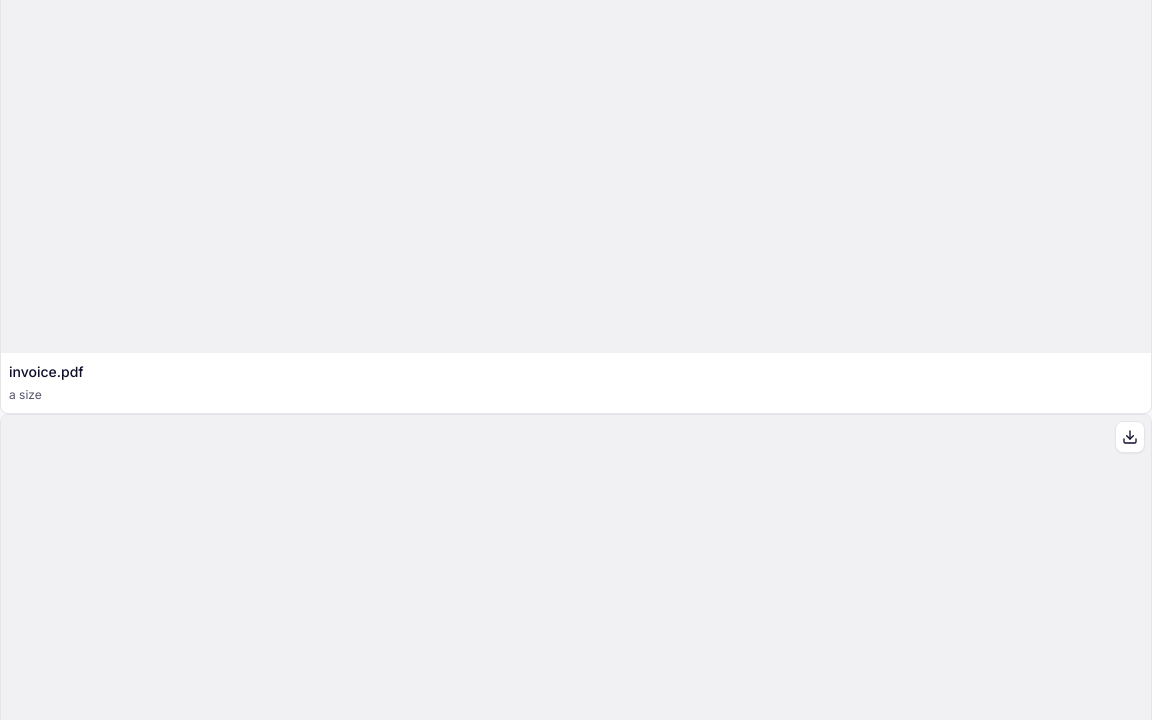
Test: AttachmentViewer › steps through the page’s files, an Office file as its thumbnail and an archive as its icon
(page scrolled)
Click the button with aria-label "Open invoice.pdf" at (46, 372), box [9, 361, 1143, 383]
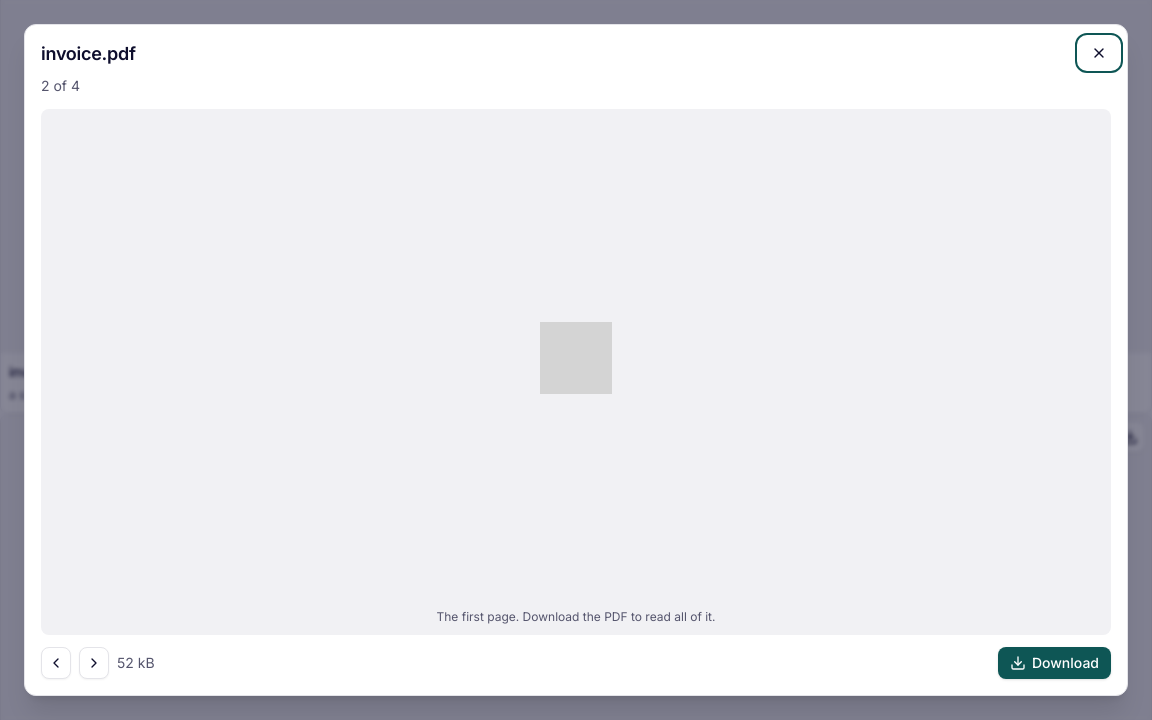
Click the button named "Next file" at (94, 663), box [79, 647, 109, 679]
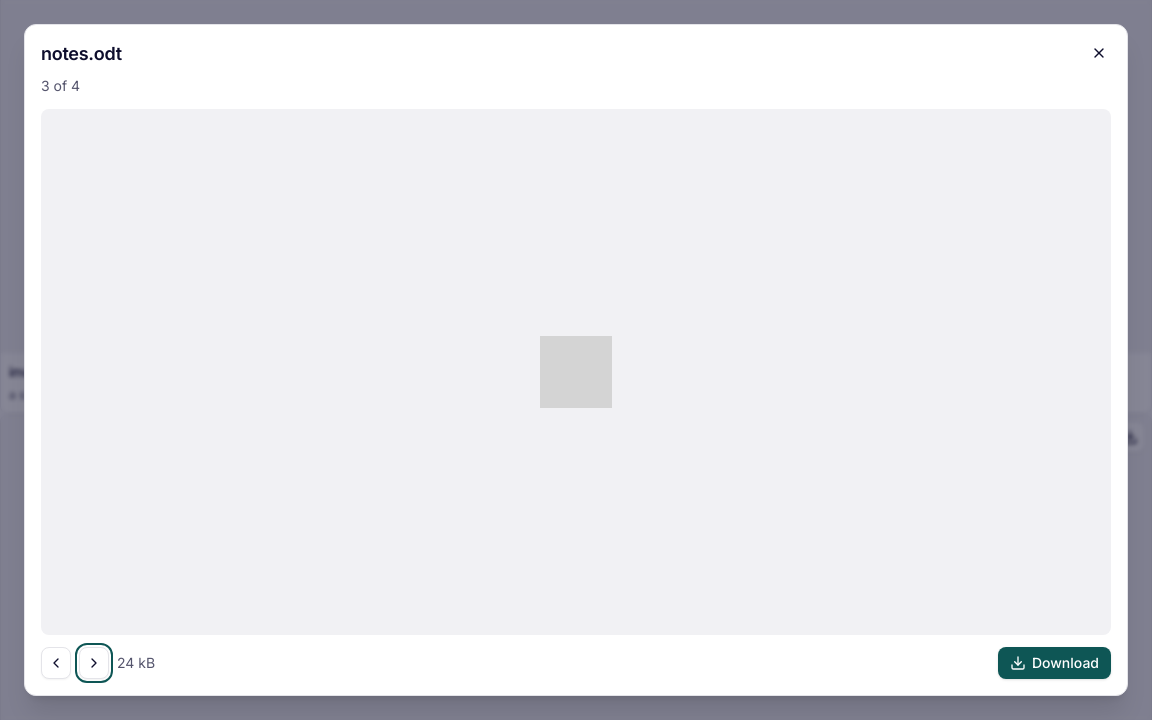
Press Arrowright
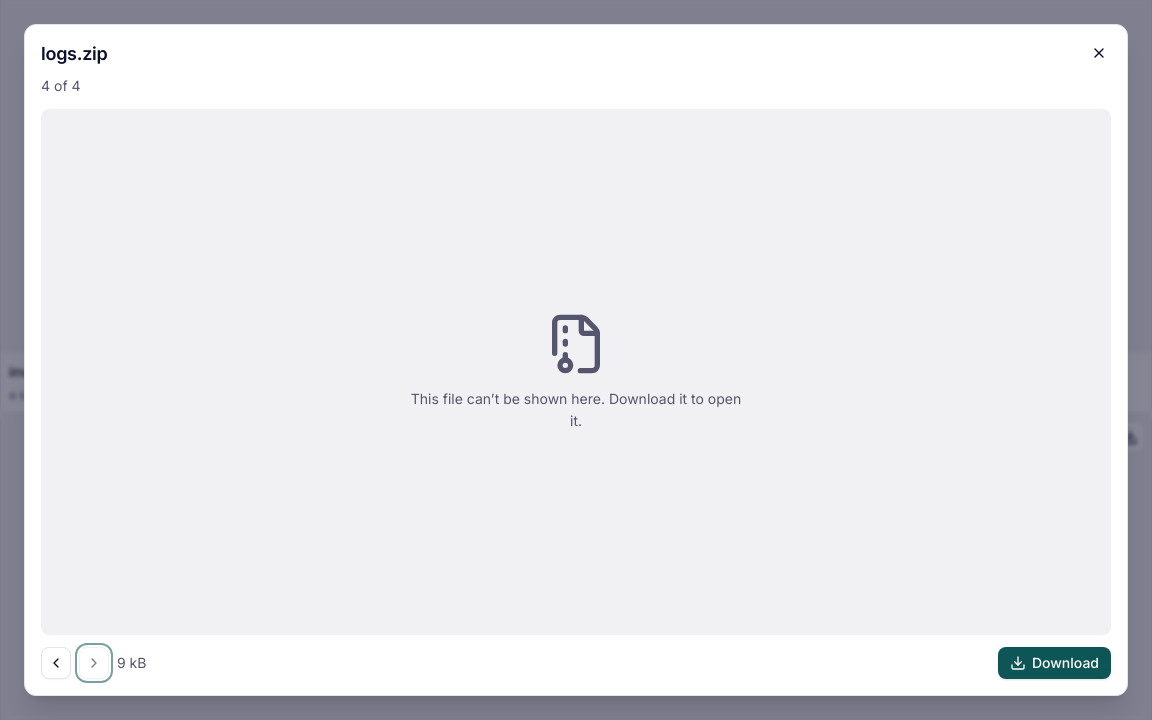
Expected: the picture is gone
Expected: the text "This file can’t be shown here. Download it to open it." is shown, [408, 388, 744, 432]
Press Arrowleft Arrowleft Arrowleft
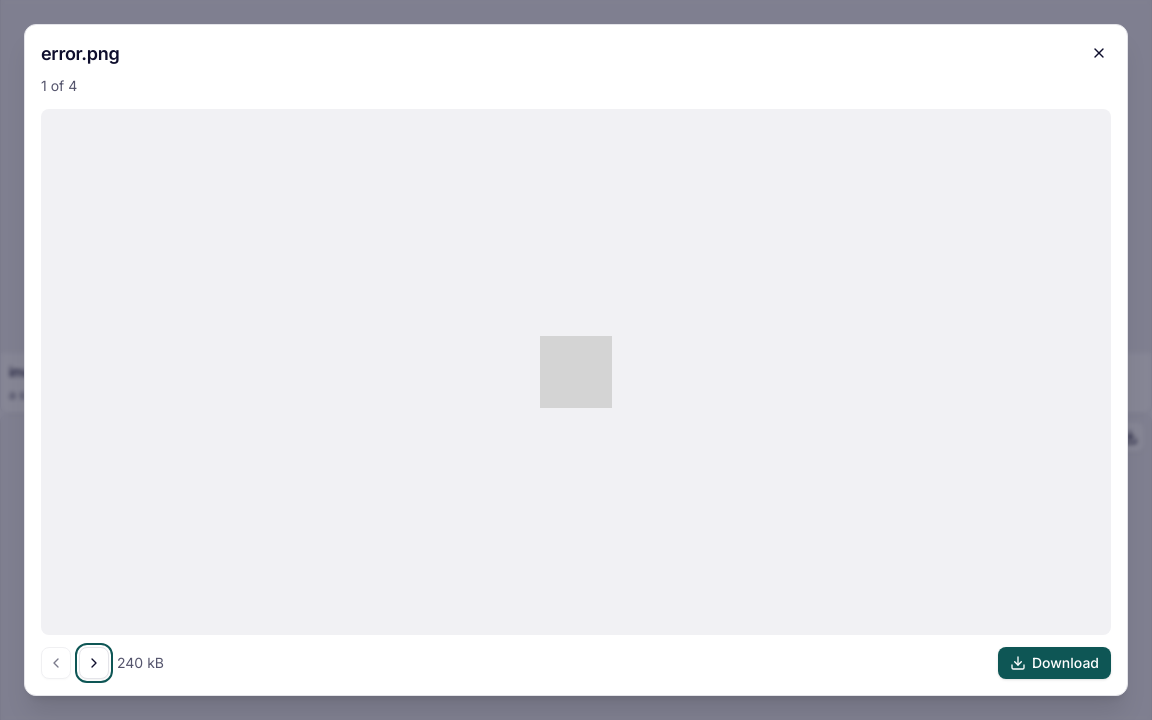
Expected: the dialog "error.png" is shown
